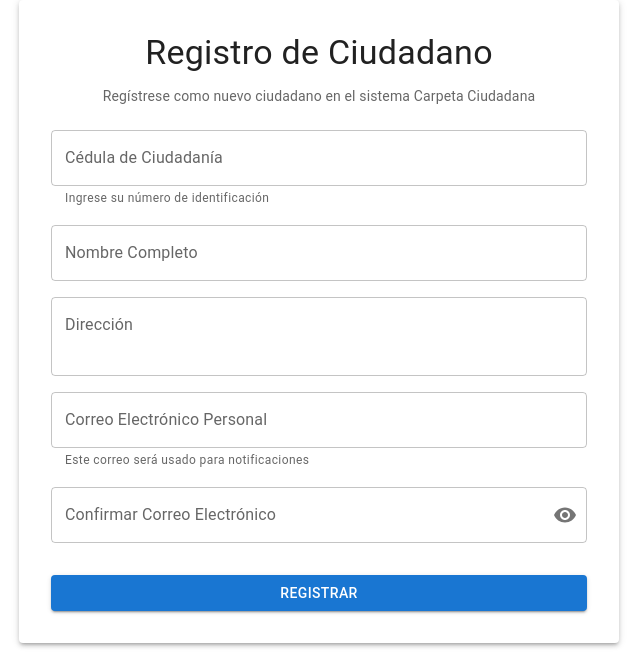
Scenario: RegisterCitizenForm › shows cedula availability status when validated successfully
Type "1234567890" into the field labelled "Cédula de Ciudadanía".
click(319, 158); type("1234567890")  # box [51, 130, 587, 186]
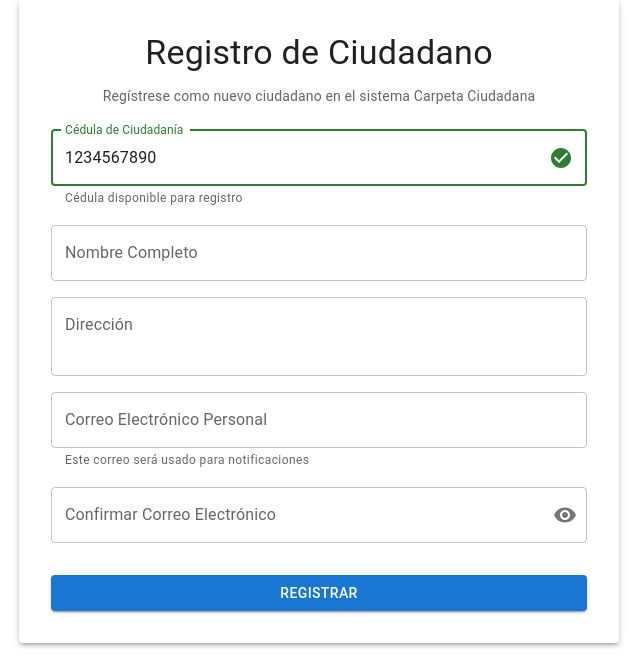
Expected: the text "Cédula disponible para registro" is shown, [65, 191, 243, 205]
